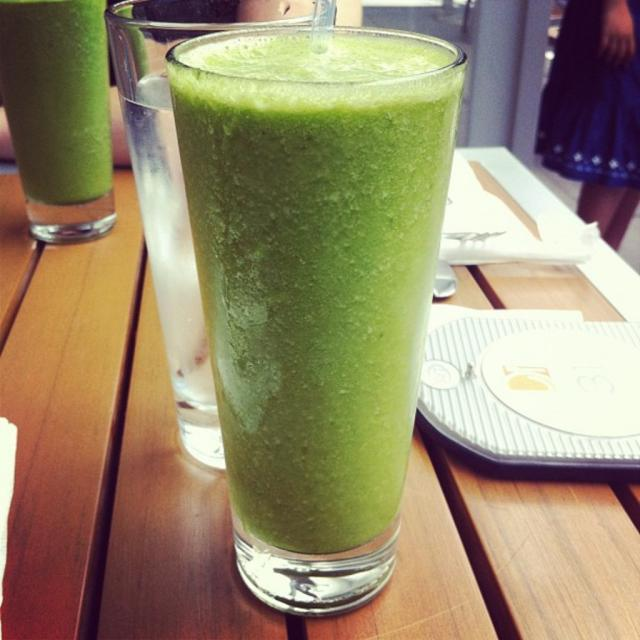Juice: (166, 27, 466, 555), (0, 0, 112, 202)
